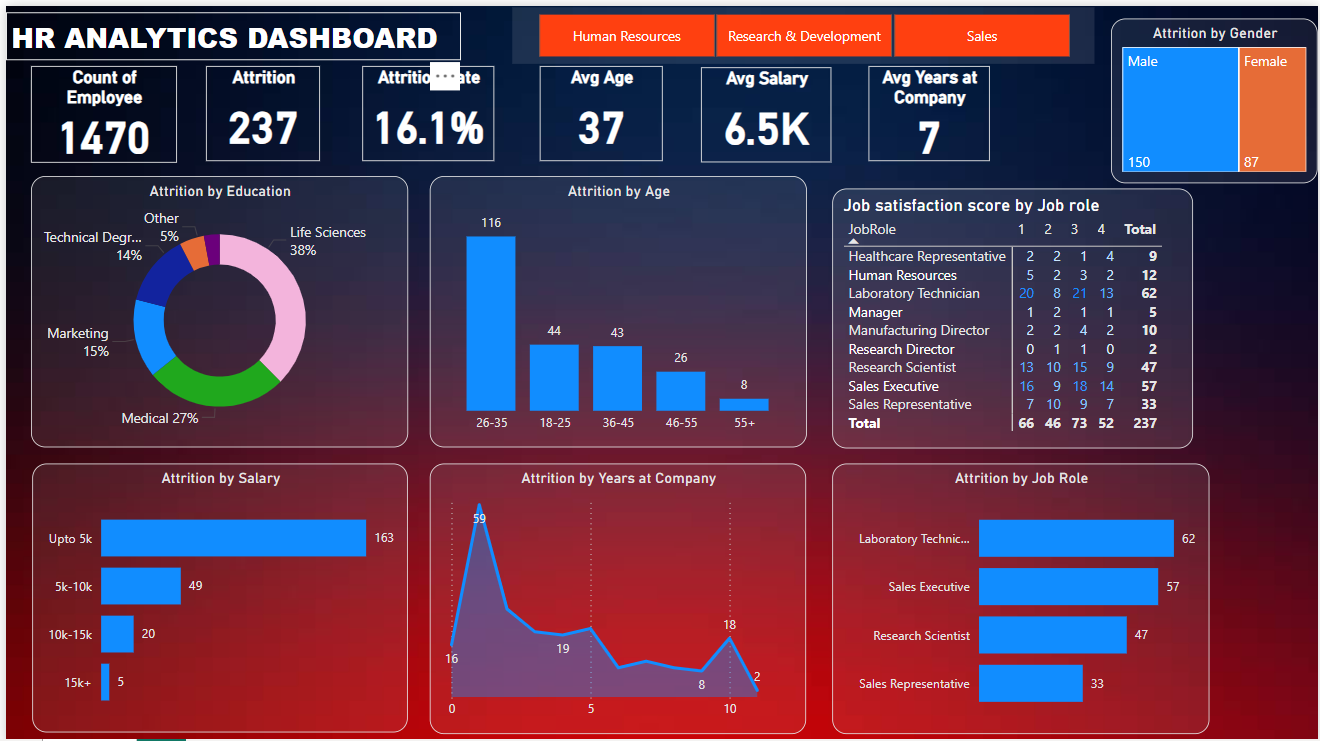

The dashboard page shown, as its layout file describes it:
{"tool":"powerbi","page":{"name":"Page 1","canvas":[1280,720],"ordinal":0},"visuals":[{"type":"card","title":"Count of Employee","fields":{"Values":["CountNonNull(HR_Analytics.EmpID)"]},"box":[24.6,58,142,94.2],"z":0},{"type":"card","title":"Attrition","fields":{"Values":["Sum(HR_Analytics.Attrition Count)"]},"box":[195.7,58,111.6,92.8],"z":1000},{"type":"card","title":"Attrition Rate","fields":{"Values":["HR_Analytics.AttritionNRate"]},"box":[347.8,58,129,92.8],"z":2000},{"type":"card","title":"Avg Age","fields":{"Values":["Avg(HR_Analytics.Age)"]},"box":[520.3,58,120.3,92.8],"z":3000},{"type":"card","title":"Avg Years at Company","fields":{"Values":["Avg(HR_Analytics.YearsAtCompany)"]},"box":[840.9,59.1,118.2,92.9],"z":4000},{"type":"card","title":"Avg Salary","fields":{"Values":["Avg(HR_Analytics.MonthlyIncome)"]},"box":[678.3,59.4,127.5,92.8],"z":5000},{"type":"donutChart","title":"Attrition by Education","fields":{"Category":["HR_Analytics.EducationField"],"Y":["Sum(HR_Analytics.Attrition Count)"]},"box":[24.7,166,367.8,264.8],"z":6000},{"type":"columnChart","title":"Attrition by Age","fields":{"Category":["HR_Analytics.AgeGroup"],"Y":["Sum(HR_Analytics.Attrition Count)"]},"box":[413,166,367.8,264.8],"z":7000},{"type":"pivotTable","title":"Job satisfaction score by Job role","fields":{"Rows":["HR_Analytics.JobRole"],"Values":["Sum(HR_Analytics.Attrition Count)"],"Columns":["HR_Analytics.JobSatisfaction"]},"box":[805.8,178.3,352.2,253.6],"z":8000},{"type":"barChart","title":"Attrition by Salary","fields":{"Category":["HR_Analytics.SalarySlab"],"Y":["Sum(HR_Analytics.Attrition Count)"]},"box":[26.1,446.4,366.7,262.3],"z":9000},{"type":"barChart","title":"Attrition by Job Role","fields":{"Category":["HR_Analytics.JobRole"],"Y":["Sum(HR_Analytics.Attrition Count)"]},"box":[805.8,446.4,368.1,263.8],"z":10000},{"type":"areaChart","title":"Attrition by Years at Company","fields":{"Category":["HR_Analytics.YearsAtCompany"],"Y":["Sum(HR_Analytics.Attrition Count)"]},"box":[413,446.8,367.5,263.6],"z":11000},{"type":"treemap","title":"Attrition by Gender","fields":{"Values":["Sum(HR_Analytics.Attrition Count)"],"Group":["HR_Analytics.Gender"]},"box":[1078.3,11.6,201.4,160.9],"z":12000},{"type":"slicer","fields":{"Values":["HR_Analytics.Department"]},"box":[494.2,1.4,568.1,55.1],"z":13000},{"type":"textbox","box":[0,5.8,443.5,47.8],"z":14000}]}

Visuals, with their boxes in screenshot pixels (x1, y1, x2, y2), scaled from the page's 1280x720 canvas onto the 1320x741 screenshot:
"Count of Employee" card: {"x1": 25, "y1": 60, "x2": 172, "y2": 157}
"Attrition" card: {"x1": 202, "y1": 60, "x2": 317, "y2": 155}
"Attrition Rate" card: {"x1": 359, "y1": 60, "x2": 492, "y2": 155}
"Avg Age" card: {"x1": 537, "y1": 60, "x2": 661, "y2": 155}
"Avg Years at Company" card: {"x1": 867, "y1": 61, "x2": 989, "y2": 156}
"Avg Salary" card: {"x1": 699, "y1": 61, "x2": 831, "y2": 157}
"Attrition by Education" donutChart: {"x1": 25, "y1": 171, "x2": 405, "y2": 443}
"Attrition by Age" columnChart: {"x1": 426, "y1": 171, "x2": 805, "y2": 443}
"Job satisfaction score by Job role" pivotTable: {"x1": 831, "y1": 184, "x2": 1194, "y2": 444}
"Attrition by Salary" barChart: {"x1": 27, "y1": 459, "x2": 405, "y2": 729}
"Attrition by Job Role" barChart: {"x1": 831, "y1": 459, "x2": 1211, "y2": 731}
"Attrition by Years at Company" areaChart: {"x1": 426, "y1": 460, "x2": 805, "y2": 731}
"Attrition by Gender" treemap: {"x1": 1112, "y1": 12, "x2": 1319, "y2": 178}
slicer - HR_Analytics.Department: {"x1": 510, "y1": 1, "x2": 1095, "y2": 58}
textbox: {"x1": 0, "y1": 6, "x2": 457, "y2": 55}
